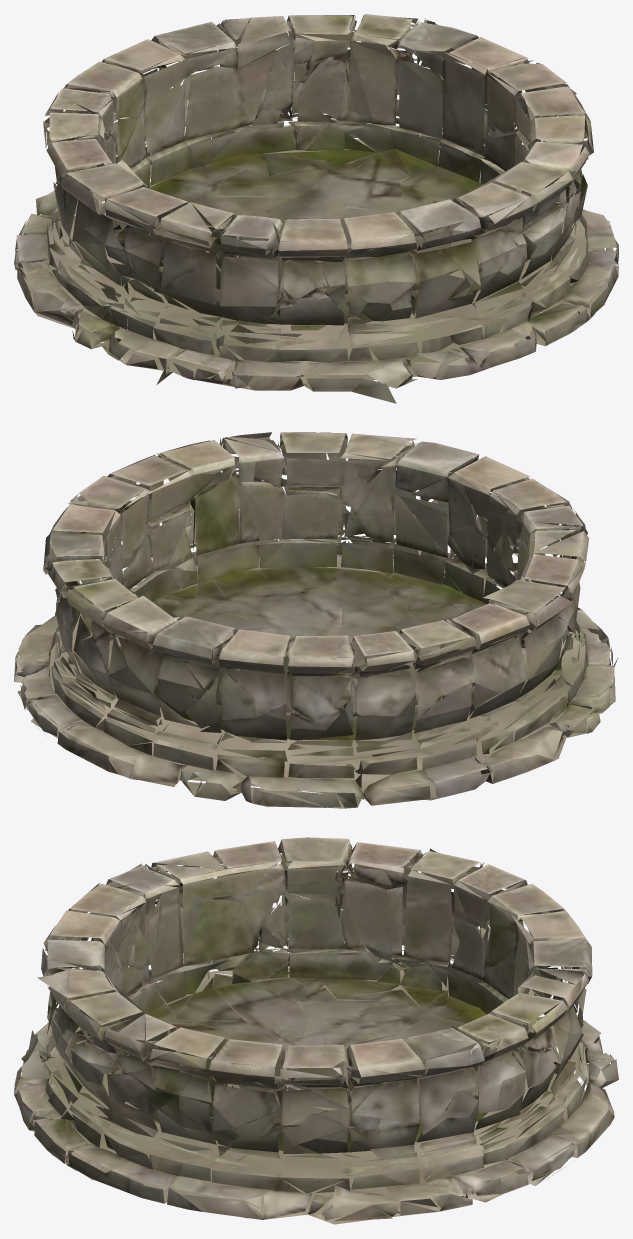
The model's file is fountain_dry.glb.
3 renders of one model, top to bottom at view 1: azimuth 30°, elevation 25°; view 2: azimuth 150°, elevation 25°; view 3: azimuth 270°, elevation 25°, orthographic.
Visible parts, largest first — view 1: Mesh_0; view 2: Mesh_0; view 3: Mesh_0.
Part boxes in pixels (x1,y1,x2,y2): Mesh_0: [14, 14, 618, 403]; Mesh_0: [14, 432, 618, 808]; Mesh_0: [14, 837, 618, 1224].
Size of the model in its own units: 1.9 by 0.5547 by 1.89.
1 material, 1 textured.
